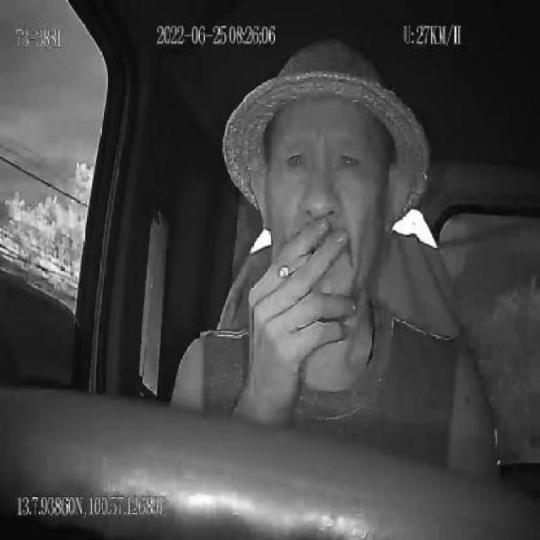smoking: (279, 248, 314, 283)
